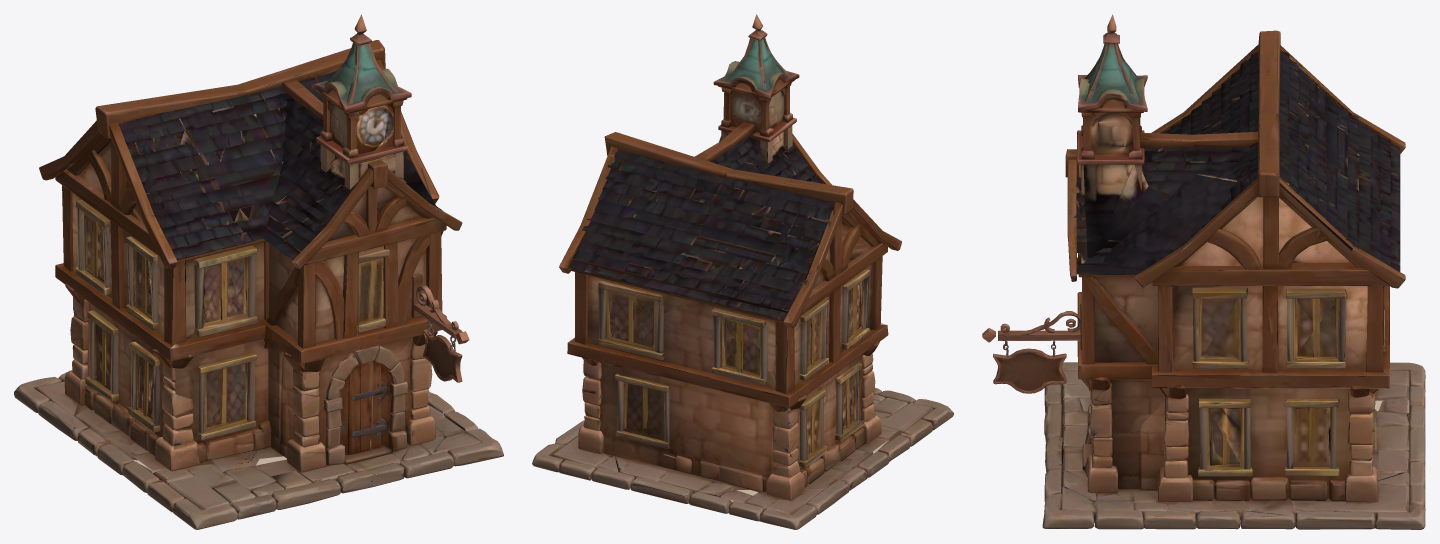
The model's file is kontora.glb.
The picture shows the model from 3 angles, left to right: view 1: azimuth 30°, elevation 25°; view 2: azimuth 150°, elevation 25°; view 3: azimuth 270°, elevation 25°; orthographic projection. The views are drawn at different scales.
Bounding box in the file's own units: 0.6968 × 0.9536 × 0.8316.
1 material, 1 textured.
